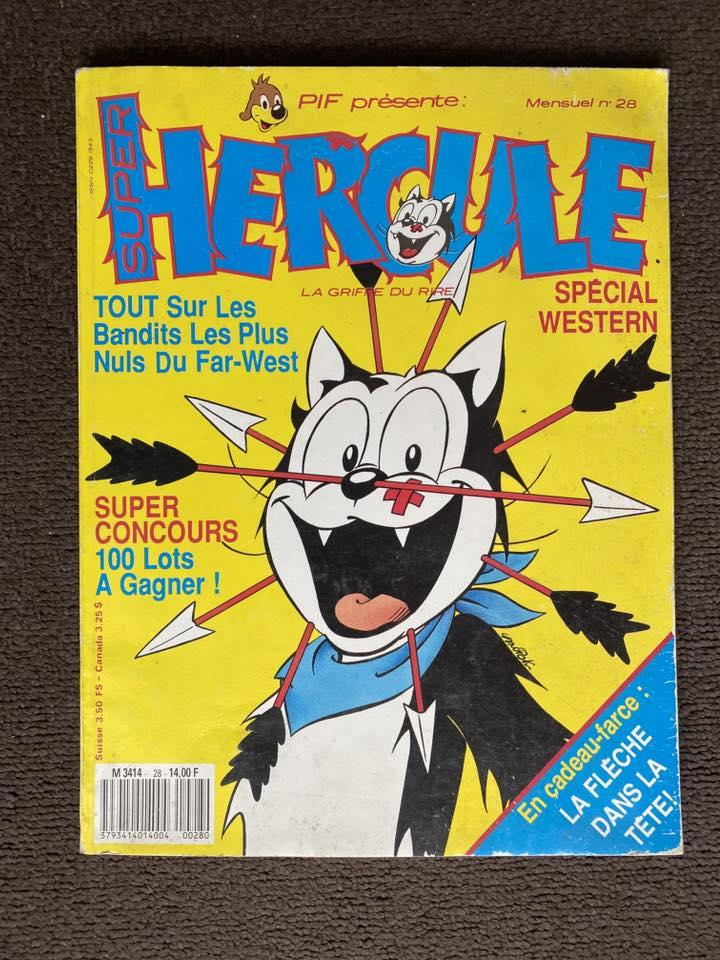comic: (77, 64, 680, 857)
